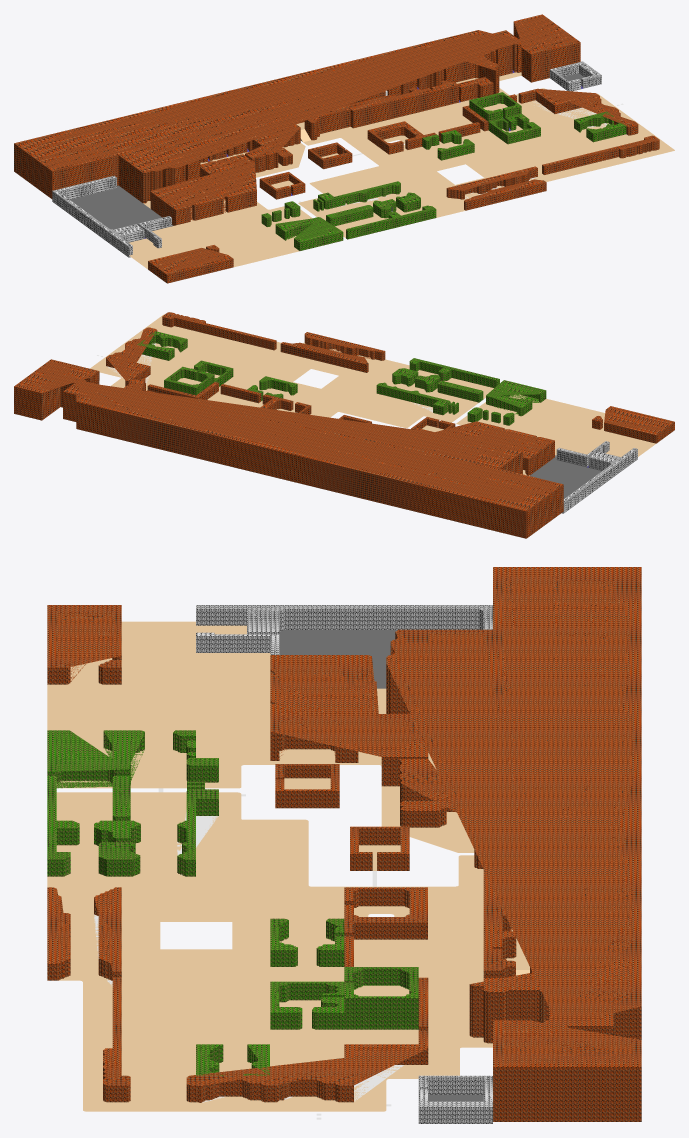
Rendered from Zelda Map Raised.fbx.
The picture shows the model from 3 angles, top to bottom: view 1: azimuth 30°, elevation 25°; view 2: azimuth 150°, elevation 25°; view 3: azimuth 270°, elevation 25°; orthographic projection. The views are drawn at different scales.
Visible parts, largest first — view 1: Model, Group51, Group7, Group5, Group44, Group46; view 2: Model, Group51, Group7, Group5, Group44, Group33; view 3: Model, Group51, Group7, Group44, Group5, Group46.
Part boxes in pixels (x1,y1,x2,y2): Model: [14, 14, 659, 283]; Group51: [298, 72, 674, 237]; Group7: [129, 199, 312, 269]; Group5: [70, 185, 173, 229]; Group44: [367, 121, 436, 154]; Group46: [255, 143, 305, 177]; Model: [14, 312, 674, 538]; Group51: [90, 314, 493, 427]; Group7: [456, 394, 655, 456]; Group5: [530, 457, 601, 498]; Group44: [260, 394, 311, 414]; Group33: [220, 384, 260, 403]; Model: [47, 567, 641, 1123]; Group51: [47, 792, 492, 1111]; Group7: [47, 621, 381, 788]; Group44: [344, 887, 427, 939]; Group5: [279, 630, 397, 688]; Group46: [381, 786, 474, 852].
Bounding box in the file's own units: 256 × 14 × 128.
